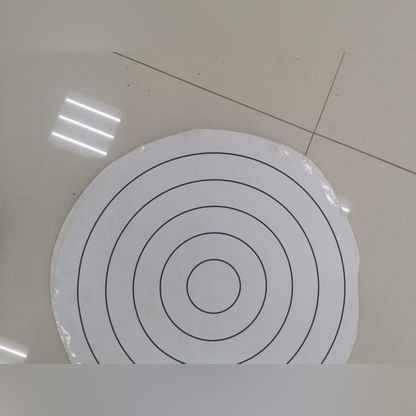circle: (66, 148, 355, 374)
